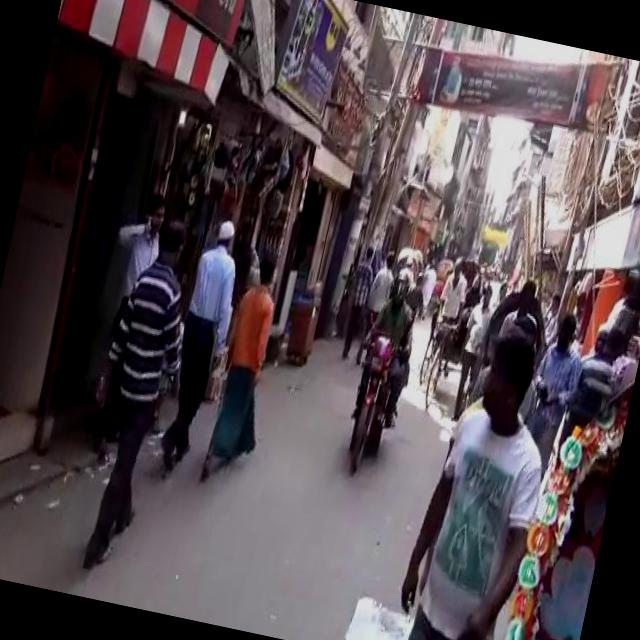motorcycle: (487, 357, 632, 640), (330, 249, 434, 478), (410, 248, 488, 418), (467, 266, 558, 405), (389, 238, 421, 280)
